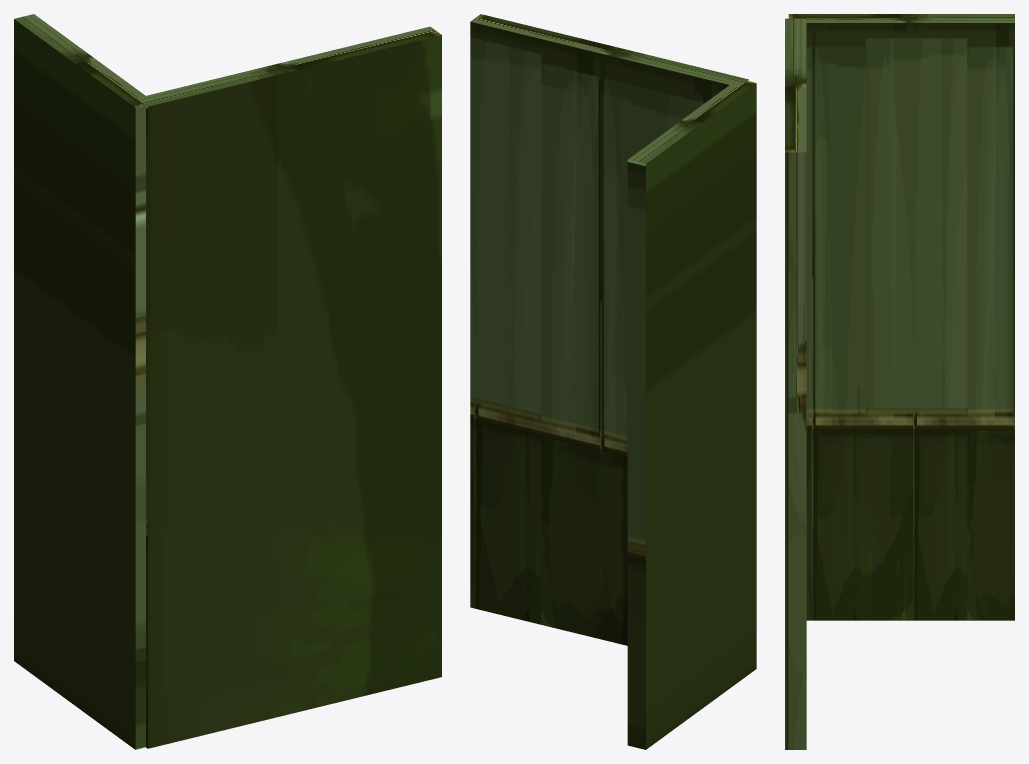
File: SM_kitchwallcorner.fbx
3 views of the same model, side by side, from view 1: azimuth 30°, elevation 25°; view 2: azimuth 150°, elevation 25°; view 3: azimuth 270°, elevation 25° (orthographic). The views are drawn at different scales.
Visible parts, largest first — view 1: Cube.002; view 2: Cube.002; view 3: Cube.002.
Boxes of the visible parts, x1,y1,x2,y2 form: Cube.002: [14, 14, 441, 749]; Cube.002: [470, 14, 756, 749]; Cube.002: [785, 14, 1014, 749].
Size of the model in its own units: 152 by 307 by 107.
